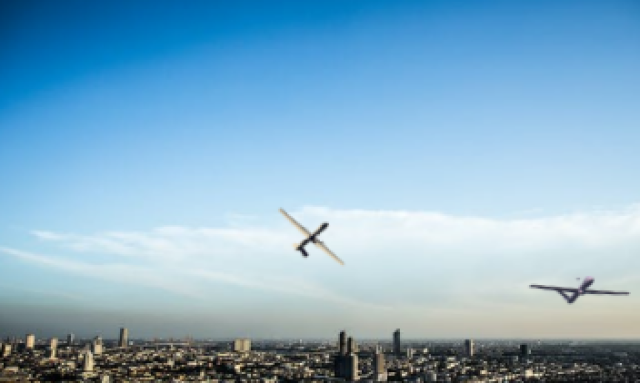military drone: (278, 206, 345, 266), (528, 275, 630, 304)
